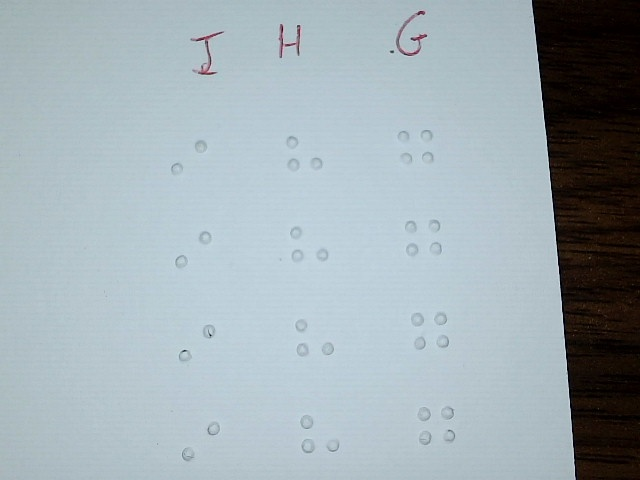G: (396, 118, 437, 191), (403, 207, 444, 280), (410, 300, 451, 373), (417, 399, 458, 472)
H: (284, 123, 325, 196), (289, 214, 330, 287), (294, 308, 335, 381), (299, 405, 340, 478)
I: (169, 128, 210, 201), (174, 222, 215, 295)
